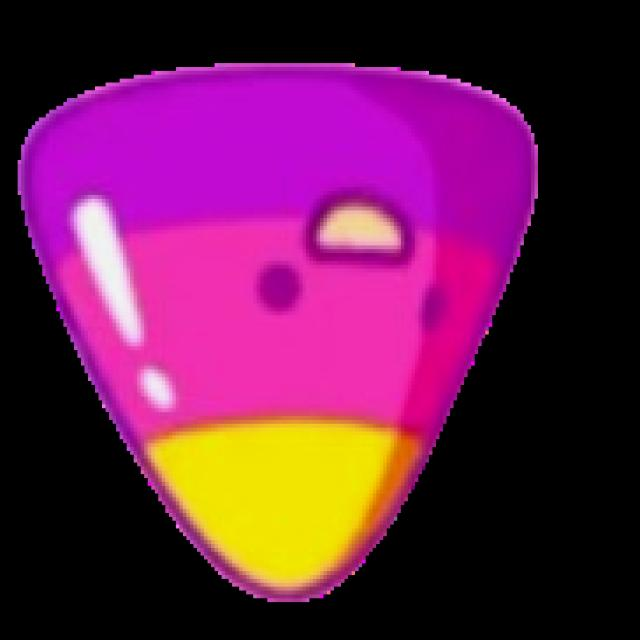Ground Monster - Red Bullet: (14, 58, 542, 605)
